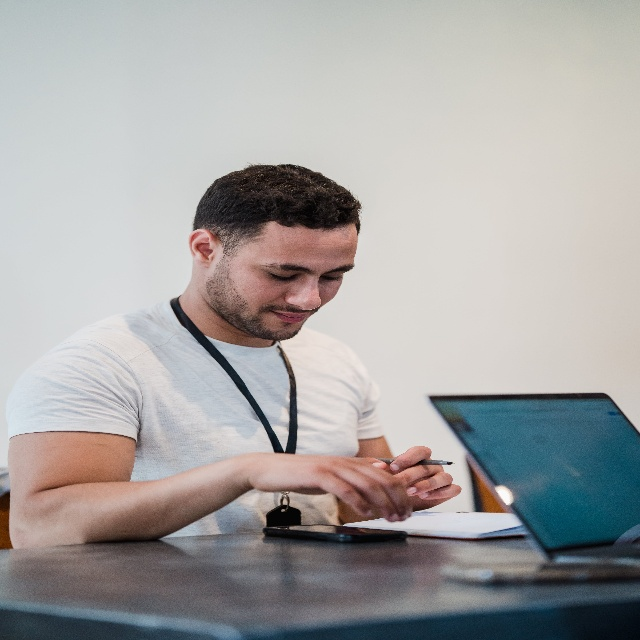Sin_guantes: (249, 446, 413, 528), (381, 443, 468, 514)
